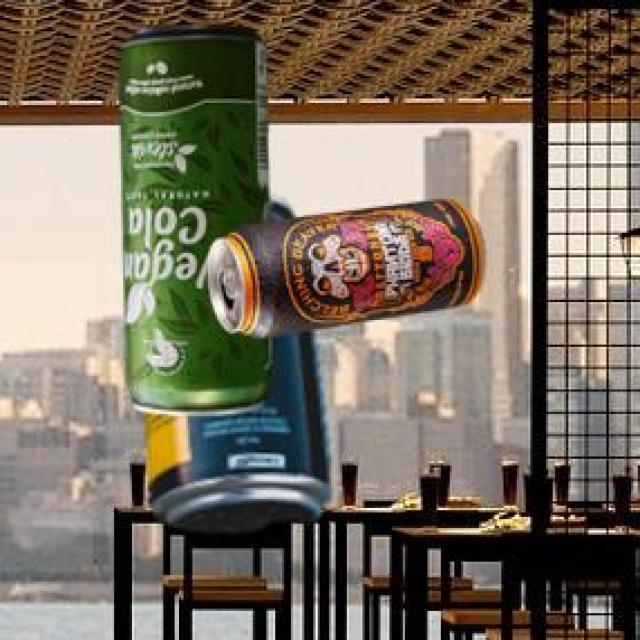logam: (142, 191, 328, 529), (117, 21, 267, 411), (207, 196, 482, 335)
